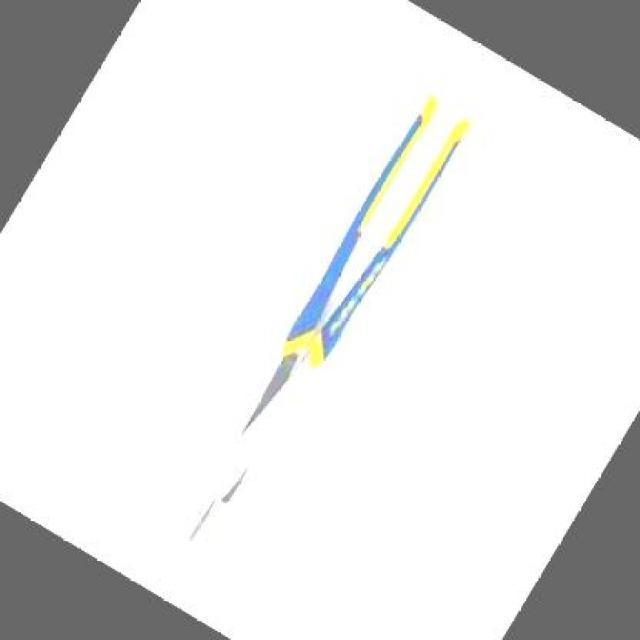pliers: (150, 55, 512, 574)
